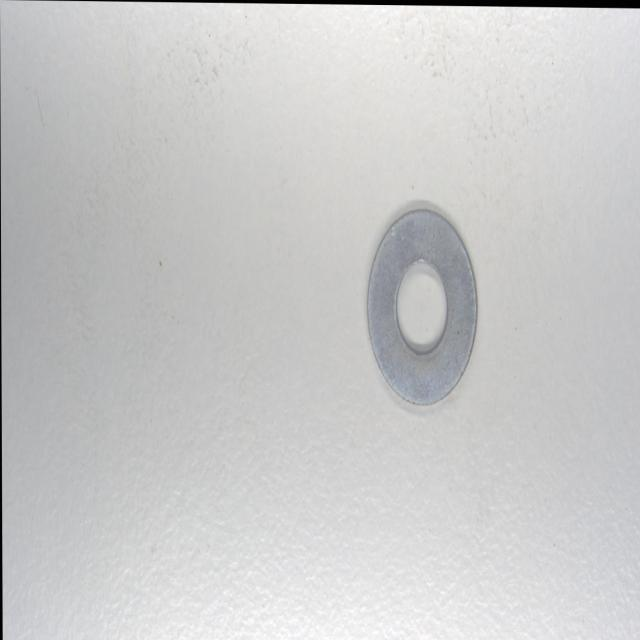washer: (364, 201, 481, 408)
